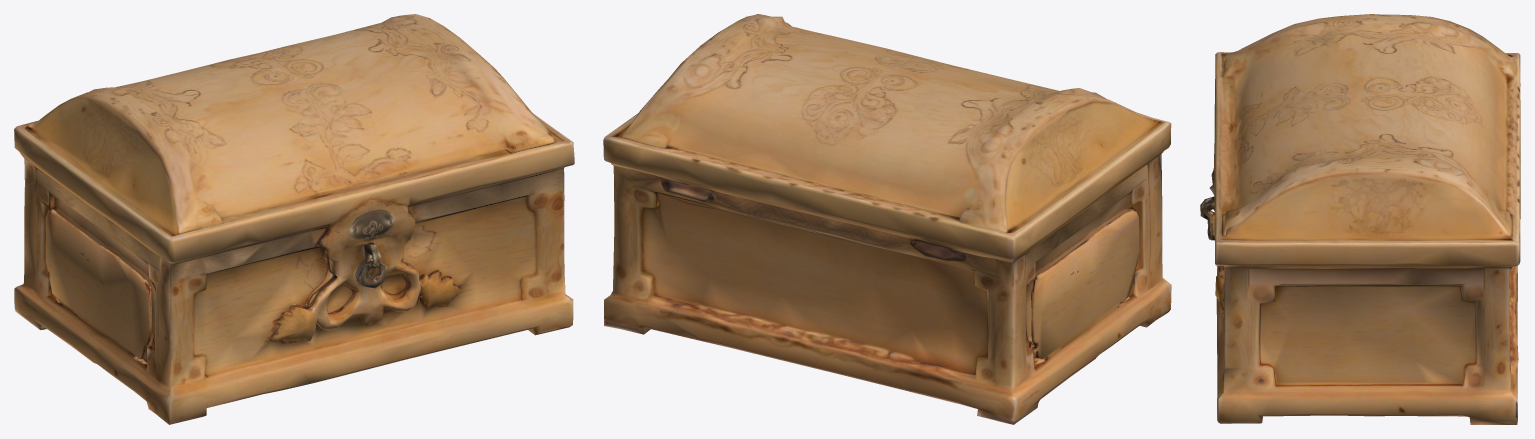
The picture shows the model from 3 angles, left to right: view 1: azimuth 30°, elevation 25°; view 2: azimuth 150°, elevation 25°; view 3: azimuth 270°, elevation 25°; orthographic projection. The views are drawn at different scales.
Parts seen in each view (by area): view 1: Mesh1.0; view 2: Mesh1.0; view 3: Mesh1.0.
Part boxes in pixels (x1,y1,x2,y2): Mesh1.0: (14, 14, 574, 424); Mesh1.0: (603, 14, 1171, 424); Mesh1.0: (1200, 14, 1520, 424).
Size of the model in its own units: 201 by 116 by 141.
1 material, 1 textured.
